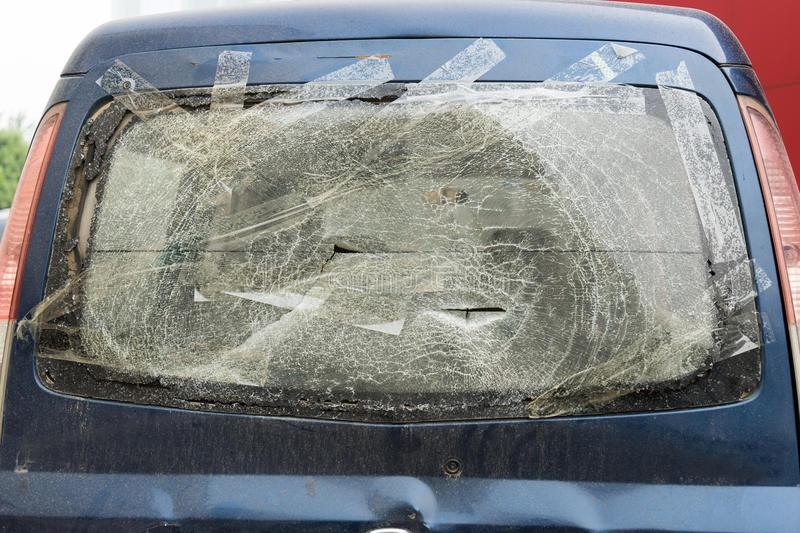Rear-windscreen-Damage: (42, 59, 789, 468)
